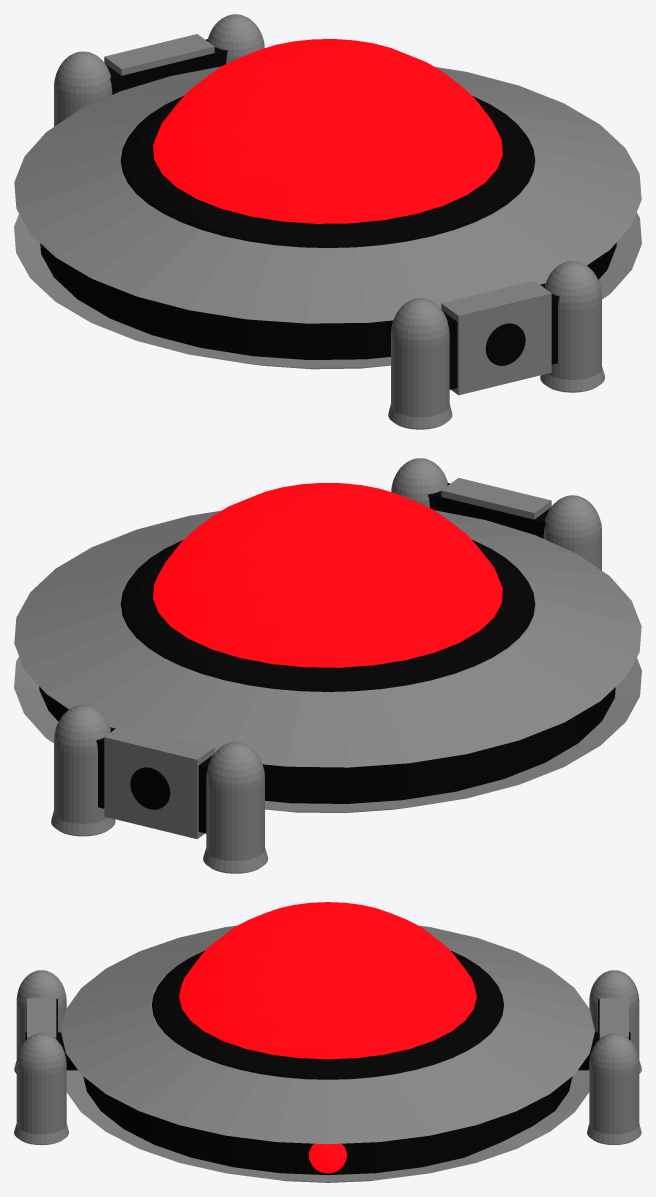
Rendered from BossUFO.fbx.
The picture shows the model from 3 angles, top to bottom: view 1: azimuth 30°, elevation 25°; view 2: azimuth 150°, elevation 25°; view 3: azimuth 270°, elevation 25°; orthographic projection. The views are drawn at different scales.
Visible parts, largest first — view 1: Cylinder; view 2: Cylinder; view 3: Cylinder.
Part boxes in pixels (x1,y1,x2,y2): Cylinder: (14,14,641,429); Cylinder: (14,458,641,873); Cylinder: (14,902,641,1182).
Bounding box in the file's own units: 654 × 304 × 768.
